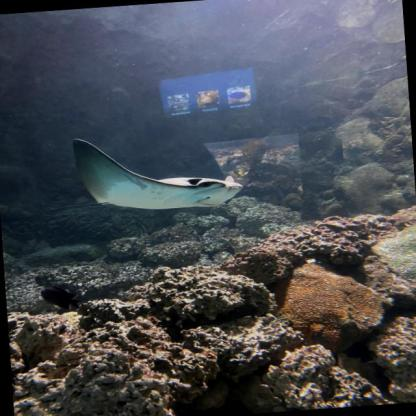fish: (40, 284, 80, 312)
stingray: (72, 126, 243, 217)
